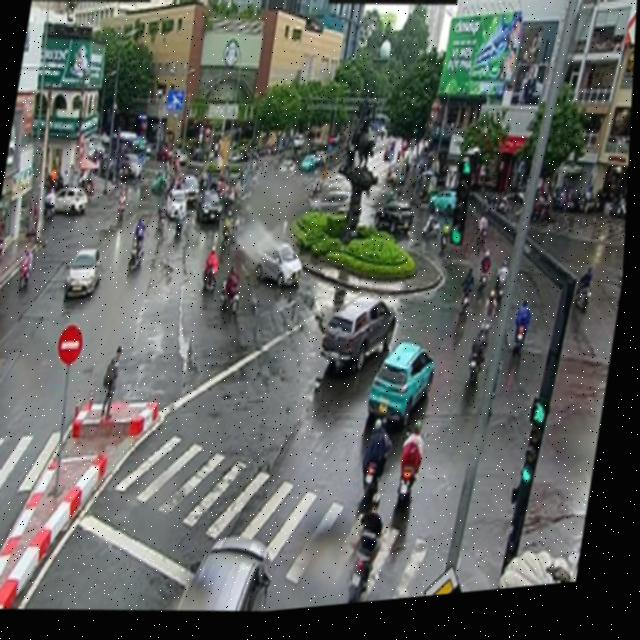Green: (517, 398, 558, 508), (445, 154, 483, 261)
